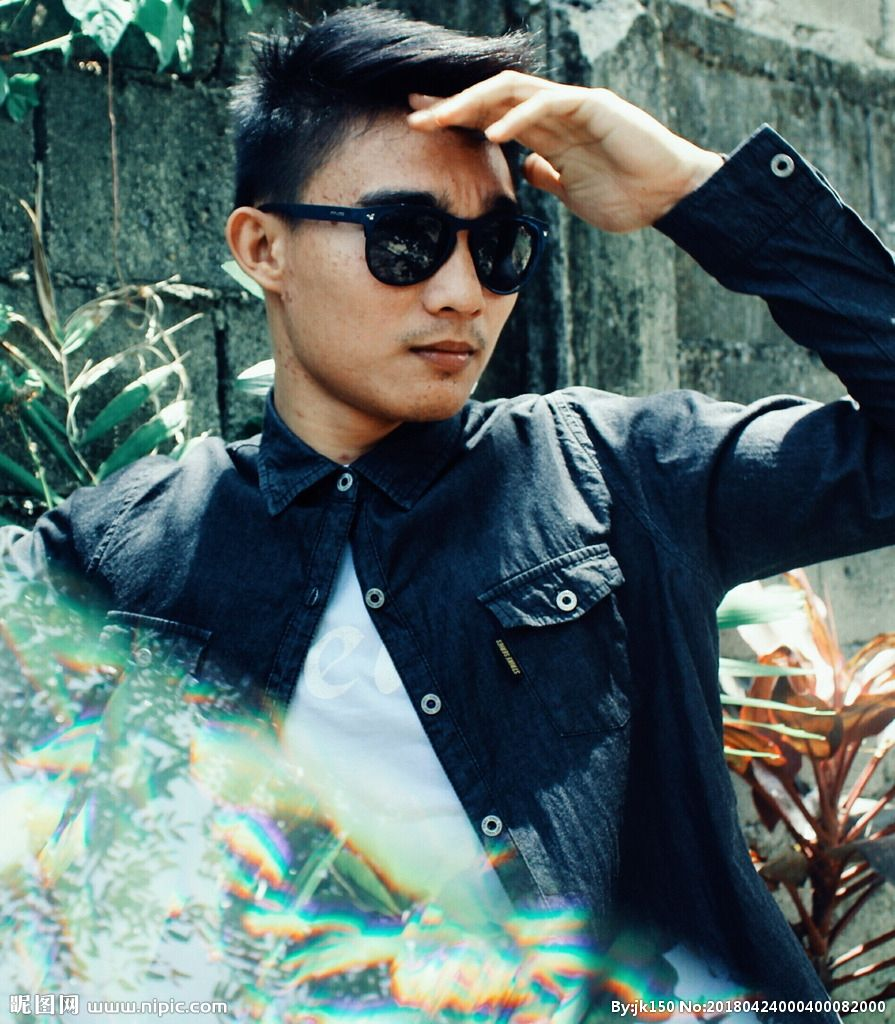person: (196, 34, 764, 945)
